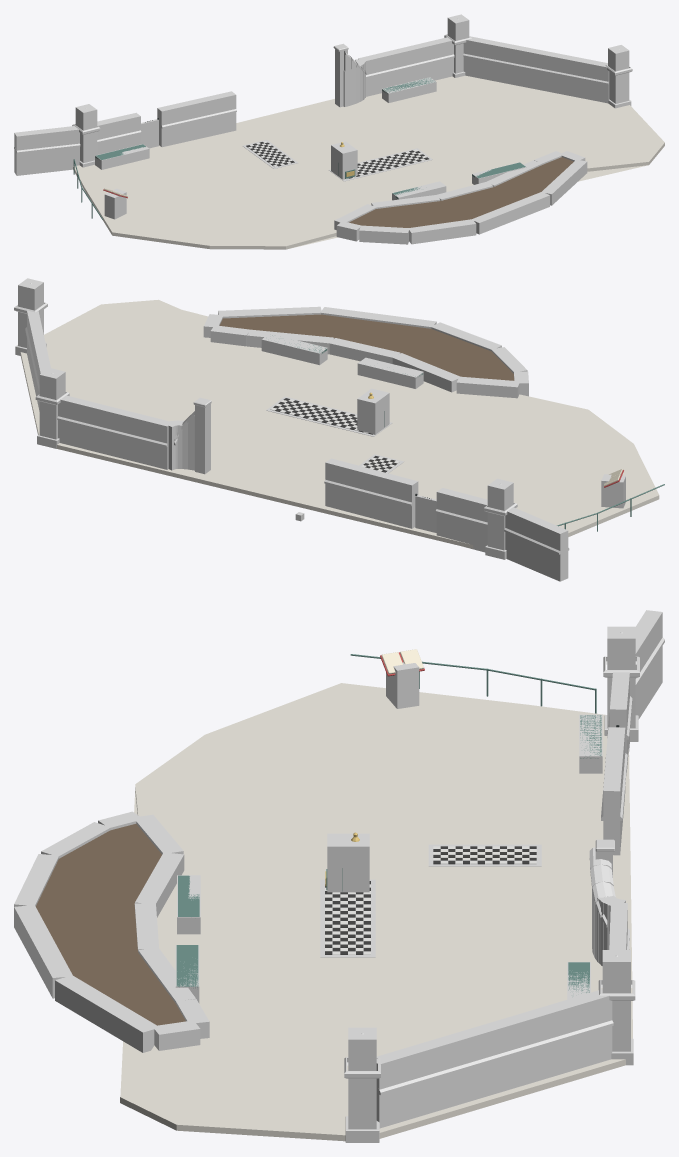
File: PE_omgeving.fbx
The picture shows the model from 3 angles, top to bottom: view 1: azimuth 30°, elevation 25°; view 2: azimuth 150°, elevation 25°; view 3: azimuth 270°, elevation 25°; orthographic projection. The views are drawn at different scales.
Parts seen in each view (by area): view 1: static__MAT_grind_0, static__TEX_baksteen_0, COLL_10, static__MAT_aarde_0, static__TEX_stuc_V_0, COLL_9, static__TEX_natuursteen_0, COLL_0, COLL_2, static__TEX_stuc_L_0, static__MAT_groen_0, COLL_1 (+11 smaller); view 2: static__MAT_grind_0, static__TEX_baksteen_0, static__MAT_aarde_0, static__TEX_stuc_A_0, COLL_9, COLL_0, static__TEX_natuursteen_0, COLL_2, COLL_1, COLL_11, COLL_12, COLL_30 (+12 smaller); view 3: static__MAT_grind_0, static__MAT_aarde_0, COLL_10, static__TEX_baksteen_0, static__TEX_natuursteen_0, static__TEX_stuc_R_0, static__MAT_groen_0, static__MAT_tegelwit_0, static__MAT_tegelzwart_0, COLL_13, COLL_30, COLL_0 (+10 smaller).
Boxes of the visible parts, box(x1,y1,x2,y2) form: static__MAT_grind_0: box(73, 75, 664, 249); static__TEX_baksteen_0: box(80, 44, 629, 244); COLL_10: box(463, 36, 609, 103); static__MAT_aarde_0: box(349, 157, 573, 227); static__TEX_stuc_V_0: box(16, 49, 609, 175); COLL_9: box(358, 37, 453, 82); static__TEX_natuursteen_0: box(14, 18, 632, 167); COLL_0: box(157, 91, 236, 146); COLL_2: box(14, 126, 79, 174); static__TEX_stuc_L_0: box(14, 49, 573, 175); static__MAT_groen_0: box(73, 78, 525, 219); COLL_1: box(97, 112, 140, 149); static__MAT_grind_0: box(20, 299, 659, 548); static__TEX_baksteen_0: box(18, 306, 528, 548); static__MAT_aarde_0: box(219, 314, 514, 380); static__TEX_stuc_A_0: box(58, 405, 560, 581); COLL_9: box(58, 395, 168, 469); COLL_0: box(325, 458, 418, 528); static__TEX_natuursteen_0: box(14, 283, 569, 559); COLL_2: box(505, 507, 568, 576); COLL_1: box(436, 488, 487, 550); COLL_11: box(487, 478, 513, 550); COLL_12: box(39, 367, 65, 438); COLL_30: box(357, 388, 389, 434); static__MAT_grind_0: box(120, 683, 632, 1141); static__MAT_aarde_0: box(36, 824, 185, 1025); COLL_10: box(376, 989, 612, 1126); static__TEX_baksteen_0: box(14, 677, 635, 1129); static__TEX_natuursteen_0: box(344, 632, 664, 1142); static__TEX_stuc_R_0: box(379, 738, 626, 1128); static__MAT_groen_0: box(176, 654, 601, 993); static__MAT_tegelwit_0: box(325, 846, 536, 954); static__MAT_tegelzwart_0: box(325, 846, 536, 954); COLL_13: box(348, 1027, 376, 1129); COLL_30: box(327, 833, 369, 892); COLL_0: box(603, 727, 625, 855).
Size of the model in its own units: 23.3 by 4.62 by 13.83.
